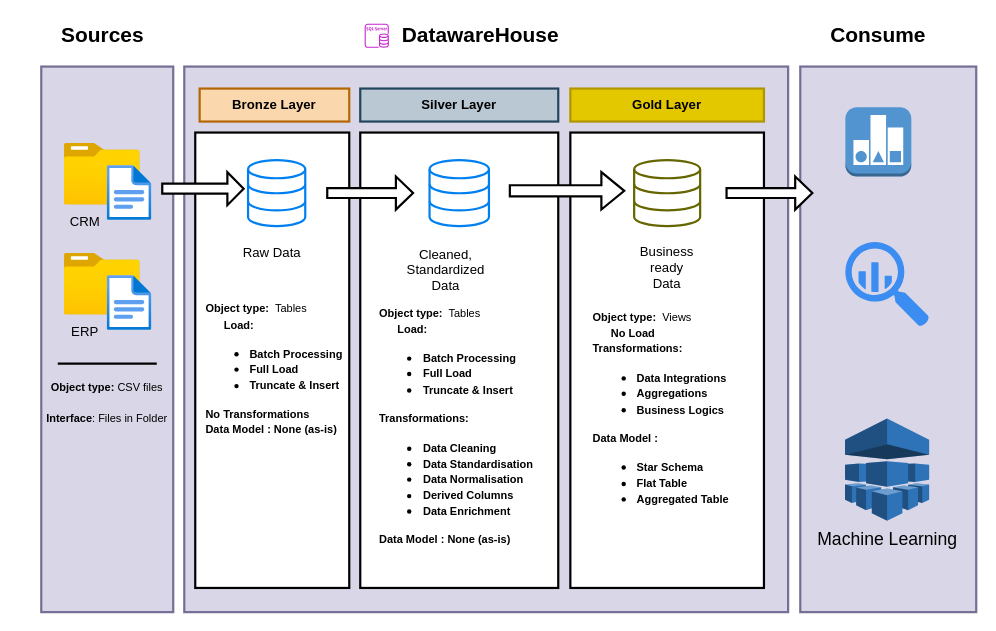
Some shapes in this 996 by 631 pixel diagram are drawn without their labels. The box of each missing label's shape, as (x1, y1, x2, y2) in pixels:
Ad-Hoc SQL Queries: (845, 241, 929, 326)
BI & Reporting: (844, 106, 911, 177)
